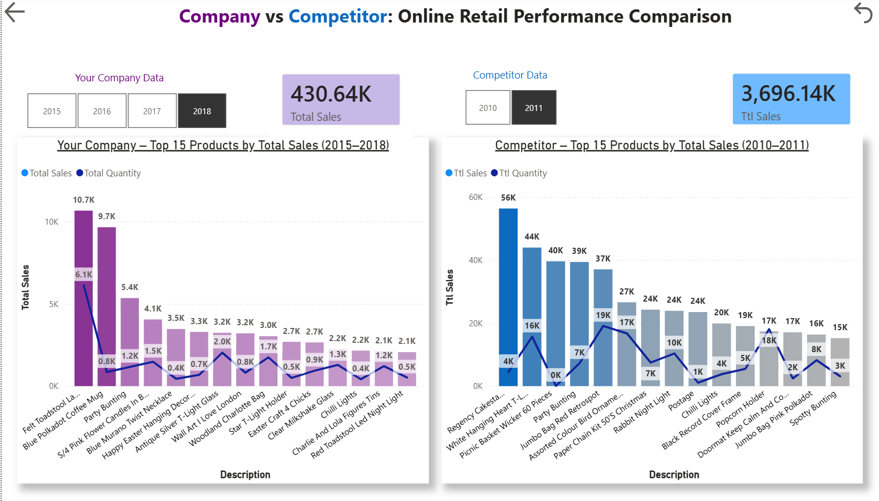

What the dashboard file says about the page in this screenshot:
{"tool":"powerbi","page":{"name":"Comp Top Products Other Retail - Sarah","canvas":[1280,720],"ordinal":8},"visuals":[{"type":"lineStackedColumnComboChart","title":"Competitor – Top 15 Products by Total Sales (2010–2011)","fields":{"Category":["data_other_retail.Description"],"Y":["data_other_retail.Ttl Sales"],"Y2":["data_other_retail.Ttl Quantity"]},"box":[640,197.4,612.8,491.2],"z":0},{"type":"textbox","box":[216.7,0,887.5,69],"z":1000},{"type":"slicer","title":"Competitor Data","fields":{"Values":["Date_Competitor.Year"]},"box":[649.3,123.1,181.8,63.2],"z":2000},{"type":"lineStackedColumnComboChart","title":"Your Company – Top 15 Products by Total Sales (2015–2018)","fields":{"Category":["Product.Description"],"Y":["Sales.Total Sales"],"Y2":["Sales.Total Quantity"]},"box":[22.4,197.4,599.1,491.2],"z":3000},{"type":"slicer","fields":{"Values":["Date.Year"]},"box":[11.7,127.4,339.5,63.2],"z":4000},{"type":"textbox","box":[669.6,92.6,141.1,31.6],"z":5000},{"type":"textbox","box":[100.2,96.3,142,31.1],"z":6000},{"type":"actionButton","box":[0,0,43.9,39.4],"z":7000},{"type":"cardVisual","fields":{"Data":["Sales.Total Sales"]},"box":[390.7,89.4,207.6,108],"z":8000},{"type":"cardVisual","fields":{"Data":["data_other_retail.Ttl Sales"]},"box":[1045.4,88.6,207.6,108.8],"z":9000},{"type":"actionButton","box":[1238.2,0,41.8,39.9],"z":10000}]}

Visuals, with their boxes in screenshot pixels (x1, y1, x2, y2), scaled from the page's 1280x720 canvas onto the 879x501 screenshot:
"Competitor – Top 15 Products by Total Sales (2010–2011)" lineStackedColumnComboChart: crop(440, 137, 860, 479)
textbox: crop(149, 0, 758, 48)
"Competitor Data" slicer: crop(446, 86, 571, 130)
"Your Company – Top 15 Products by Total Sales (2015–2018)" lineStackedColumnComboChart: crop(15, 137, 427, 479)
slicer - Date.Year: crop(8, 89, 241, 133)
textbox: crop(460, 64, 557, 86)
textbox: crop(69, 67, 166, 89)
actionButton: crop(0, 0, 30, 27)
cardVisual - Sales.Total Sales: crop(268, 62, 411, 137)
cardVisual - data_other_retail.Ttl Sales: crop(718, 62, 860, 137)
actionButton: crop(850, 0, 878, 28)
